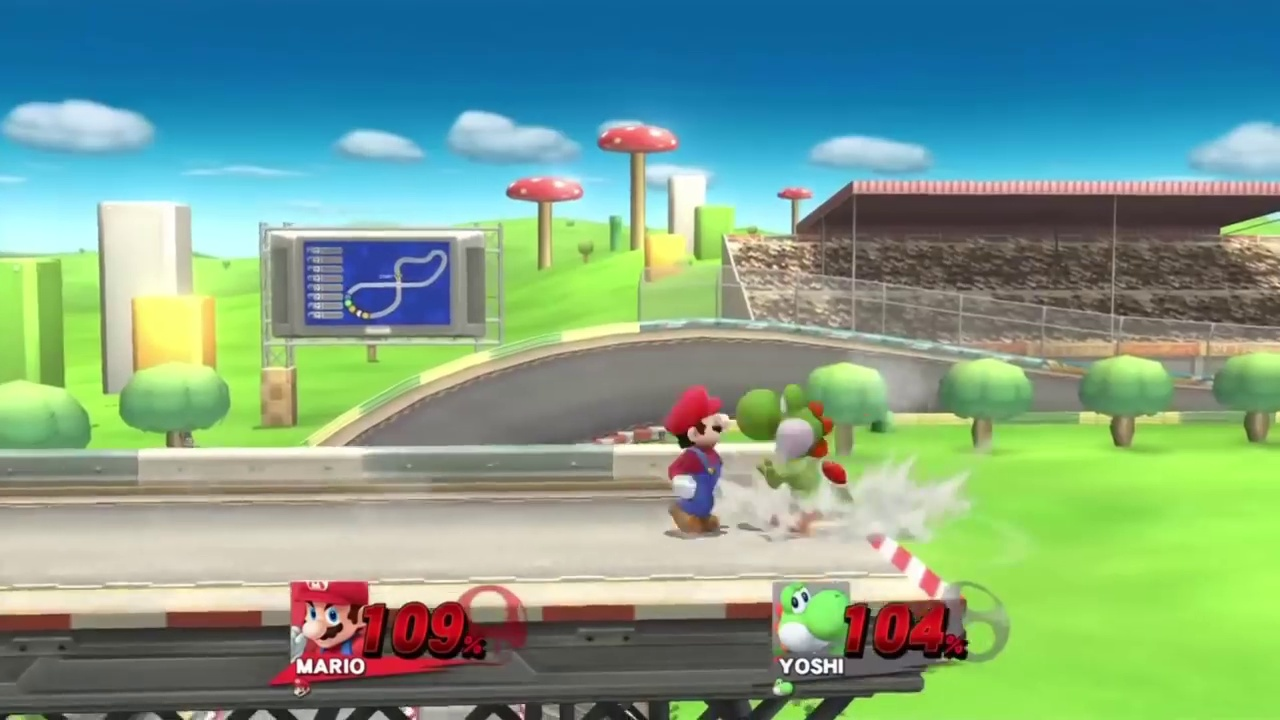Mario: (663, 383, 729, 538)
